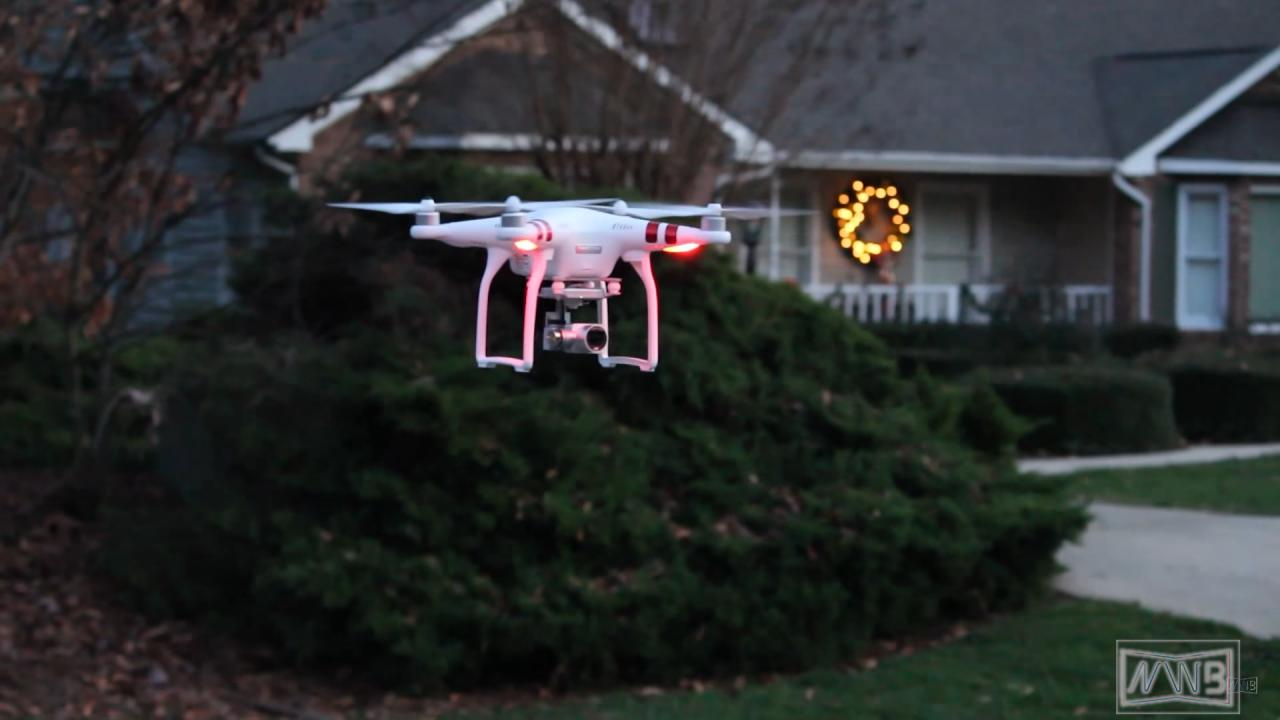Drone: (316, 186, 828, 382)
